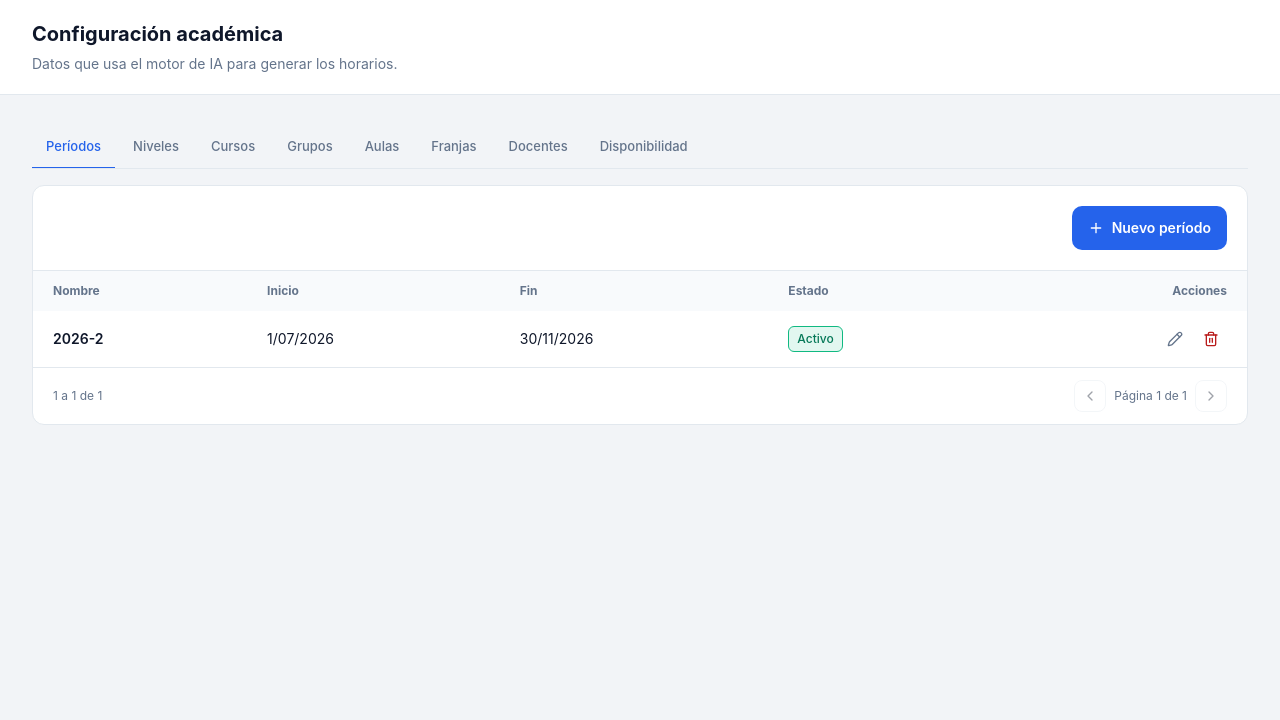
Test case: Configuración académica (RF-09 a RF-16) › valida las fechas antes de crear un período
This screenshot has width=1280, height=720.
Click the button "Nuevo período" at {"x": 1149, "y": 228}, box [1072,206,1227,250]
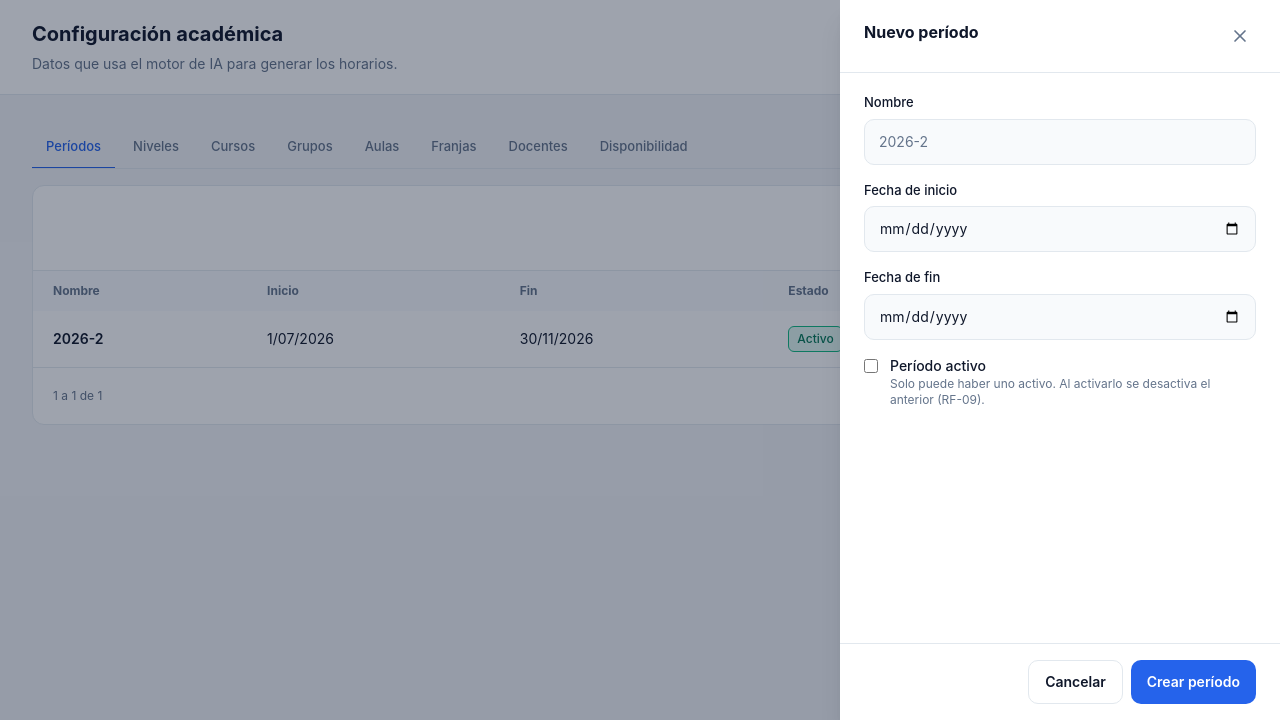
Type "2027-1" into the field labelled "Nombre" at {"x": 1060, "y": 142}, box [864,118,1256,164]
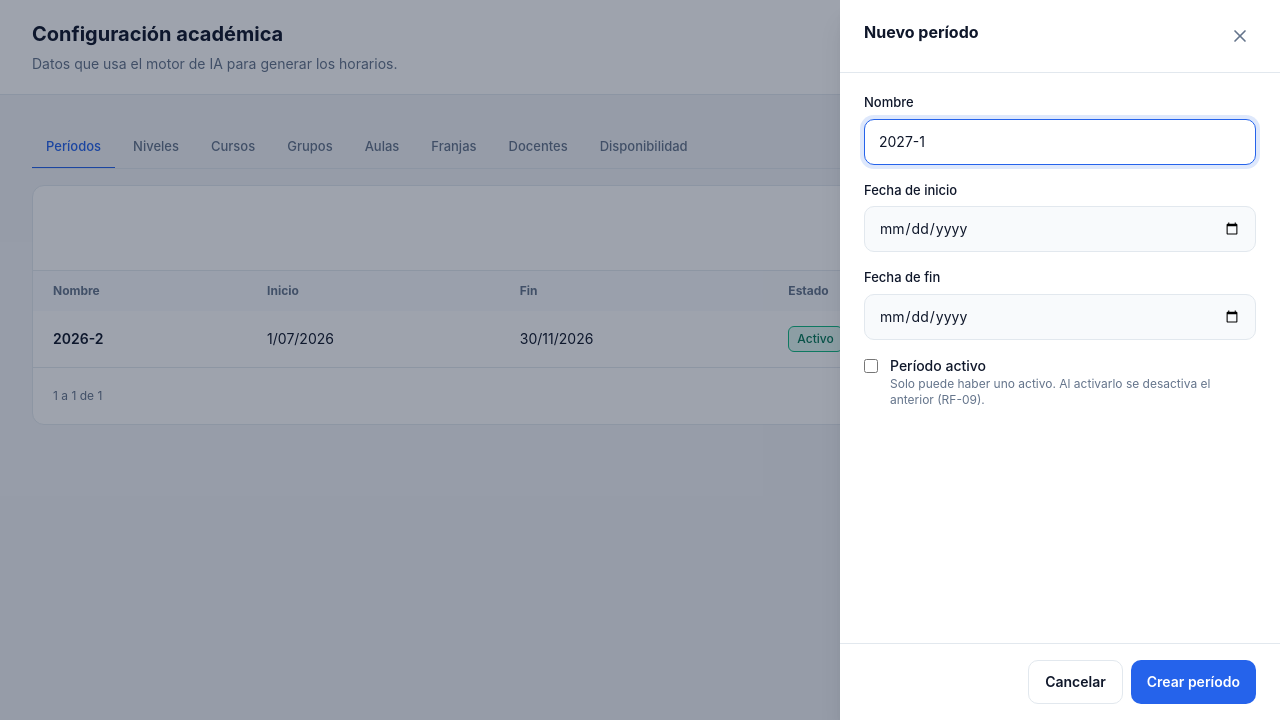
Type "2027-02-01" into the date field labelled "Fecha de inicio" at {"x": 1060, "y": 229}, box [864,206,1256,252]
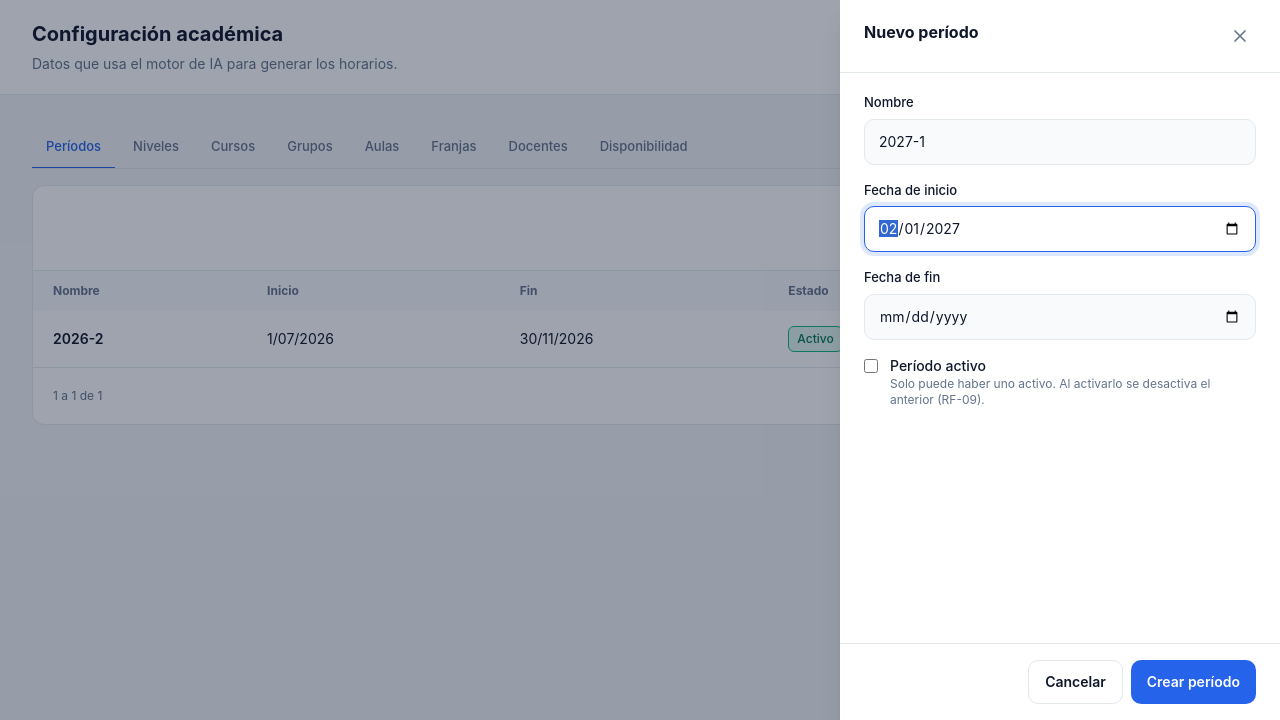
Type "2027-01-01" into the date field labelled "Fecha de fin" at {"x": 1060, "y": 316}, box [864,294,1256,340]
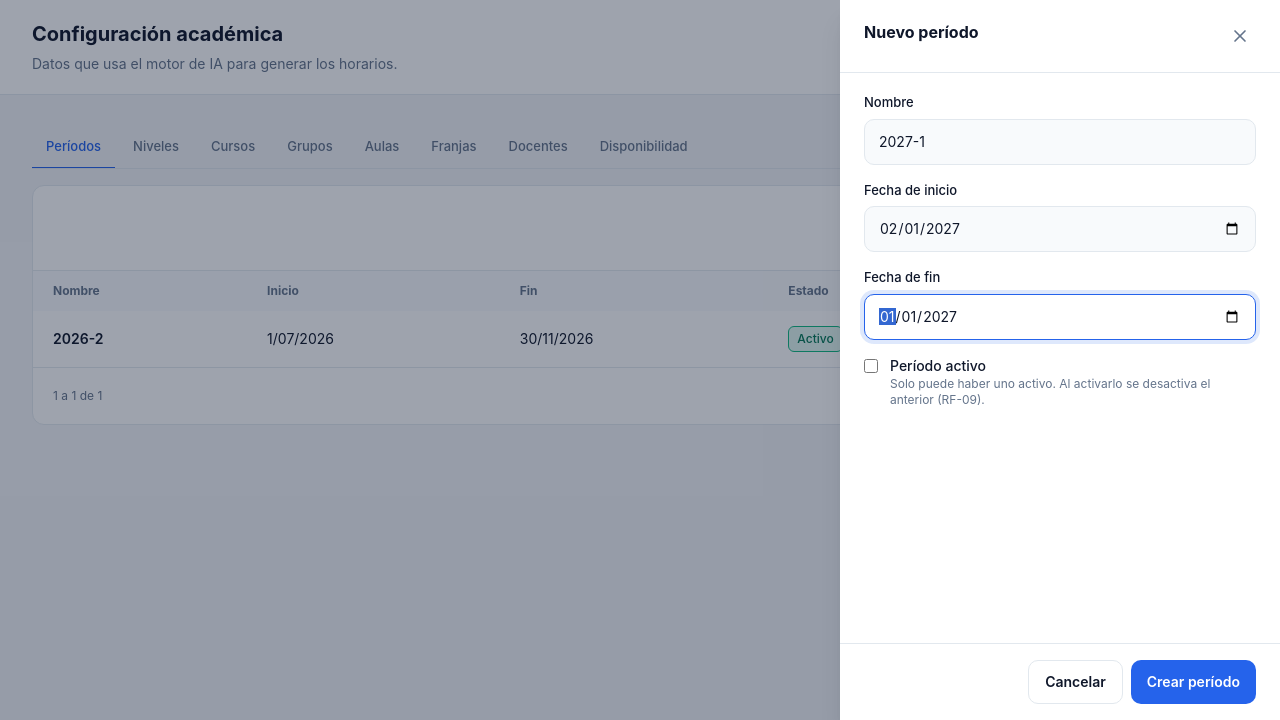
Click the button "Crear período" at {"x": 1193, "y": 682}, box [1131,660,1256,704]
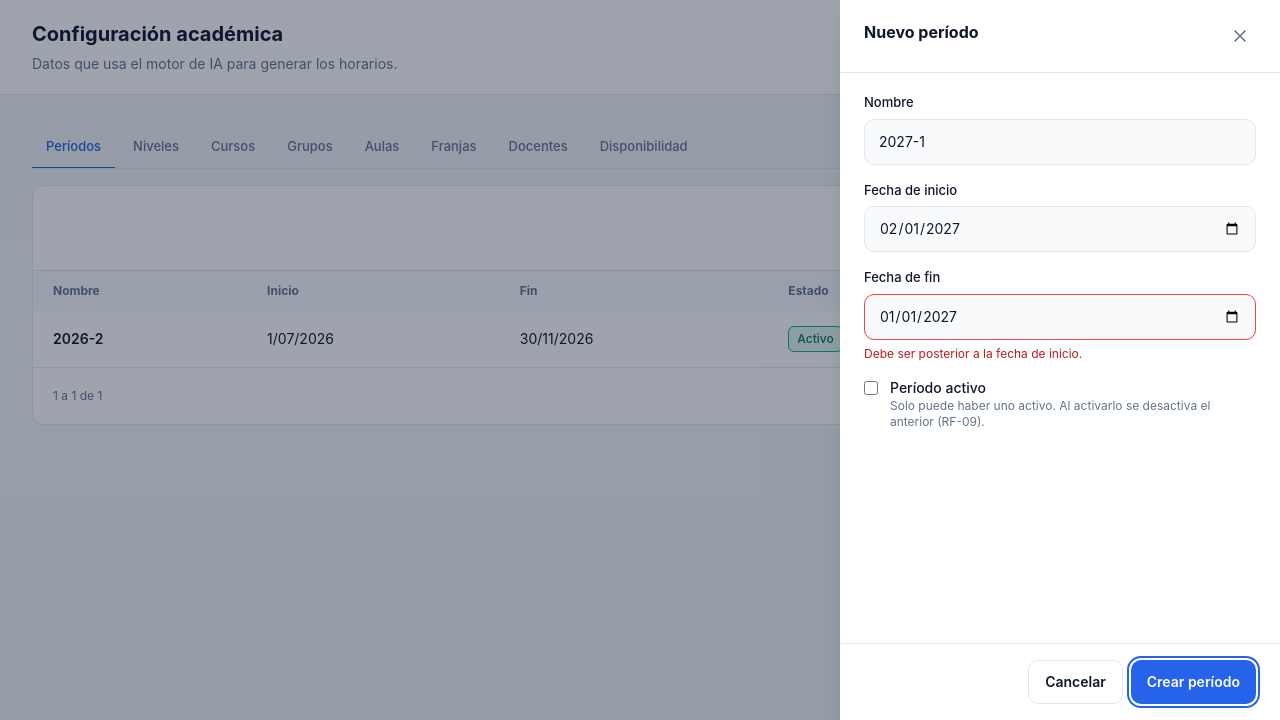
Now the text "Debe ser posterior a la fecha de inicio." is shown, box [864,346,1082,360]
